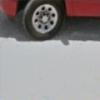cars: (0, 0, 100, 40)
